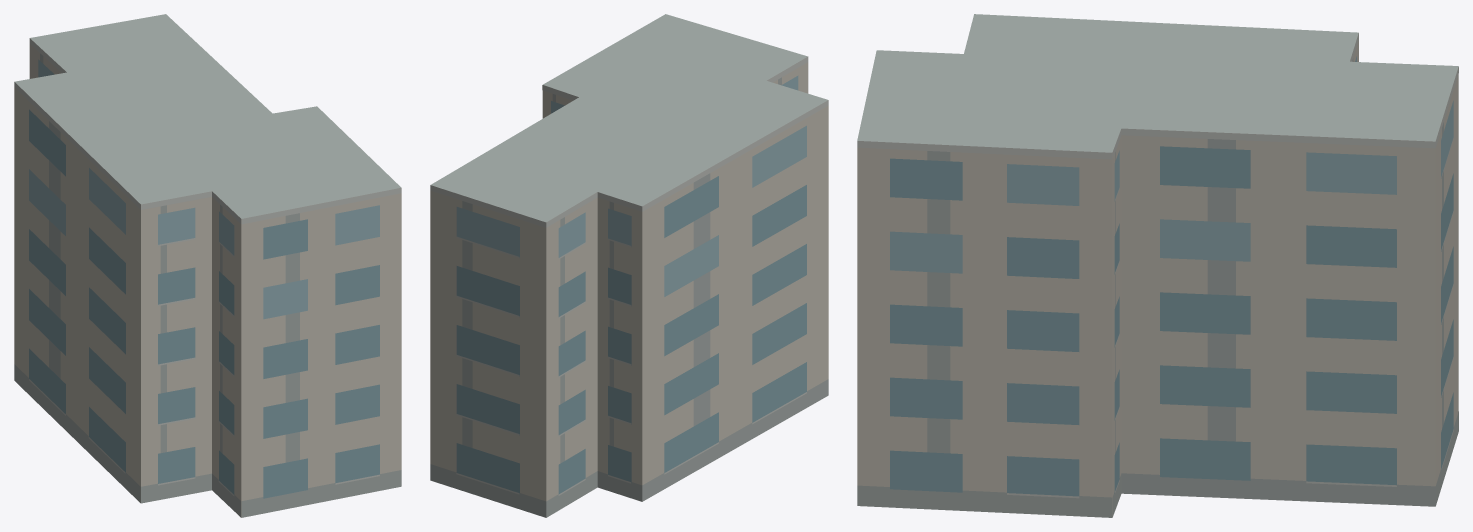
Rendered from survey-upis-33035170.glb.
3 views of the same model, side by side, from view 1: azimuth 30°, elevation 25°; view 2: azimuth 150°, elevation 25°; view 3: azimuth 270°, elevation 25° (orthographic). The views are drawn at different scales.
Visible parts, largest first — view 1: survey-upis-33035170.tmp; view 2: survey-upis-33035170.tmp; view 3: survey-upis-33035170.tmp.
Boxes of the visible parts, x1=… form: survey-upis-33035170.tmp: x1=14, y1=14, x2=401, y2=517; survey-upis-33035170.tmp: x1=430, y1=14, x2=828, y2=517; survey-upis-33035170.tmp: x1=857, y1=14, x2=1458, y2=517.
Size of the model in its own units: 10.69 by 13.1 by 19.58.
